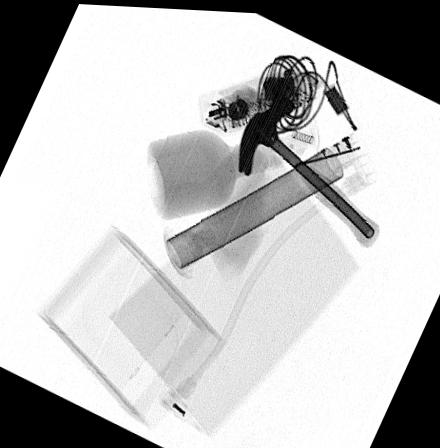Hammer: (238, 88, 382, 244)
